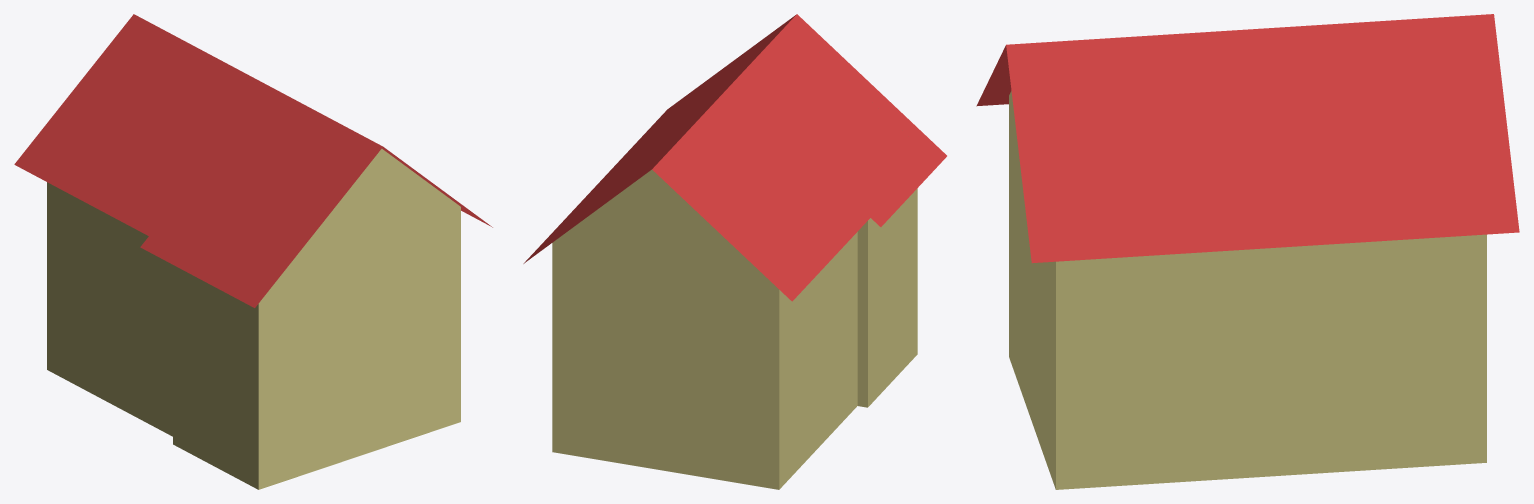
The picture shows the model from 3 angles, left to right: view 1: azimuth 30°, elevation 25°; view 2: azimuth 150°, elevation 25°; view 3: azimuth 270°, elevation 25°; orthographic projection. The views are drawn at different scales.
Size of the model in its own units: 11.25 by 14.19 by 11.14.
